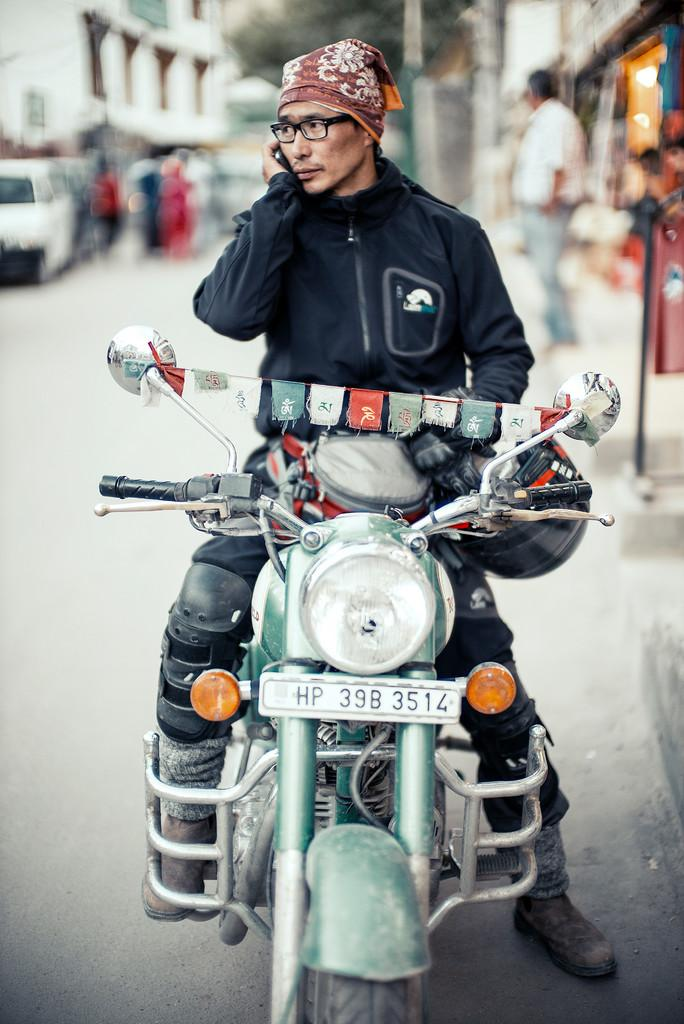nohelmet: (269, 37, 390, 200)
